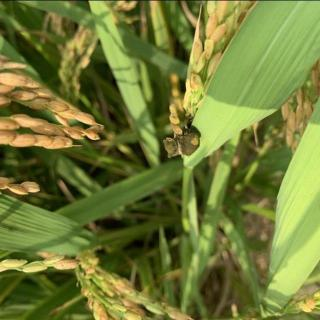Gosong-Palsu: (163, 122, 200, 158)
